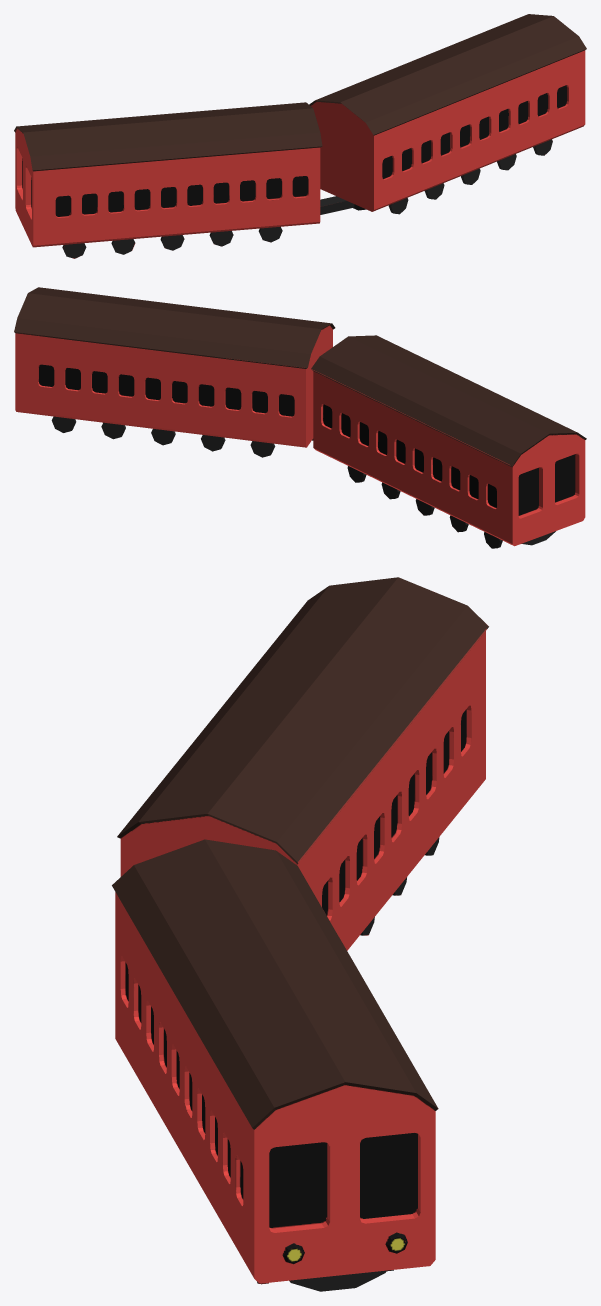
File: train.glb
3 renders of one model, top to bottom at view 1: azimuth 30°, elevation 25°; view 2: azimuth 150°, elevation 25°; view 3: azimuth 270°, elevation 25°, orthographic. The views are drawn at different scales.
Visible parts, largest first — view 1: train; view 2: train; view 3: train.
Boxes of the visible parts, box(x1,y1,x2,y2) form: train: box(14, 14, 586, 258); train: box(14, 287, 586, 548); train: box(112, 577, 488, 1291).
Size of the model in its own units: 5 by 1.03 by 1.51.
Materials: 1 (1 with a texture image).
